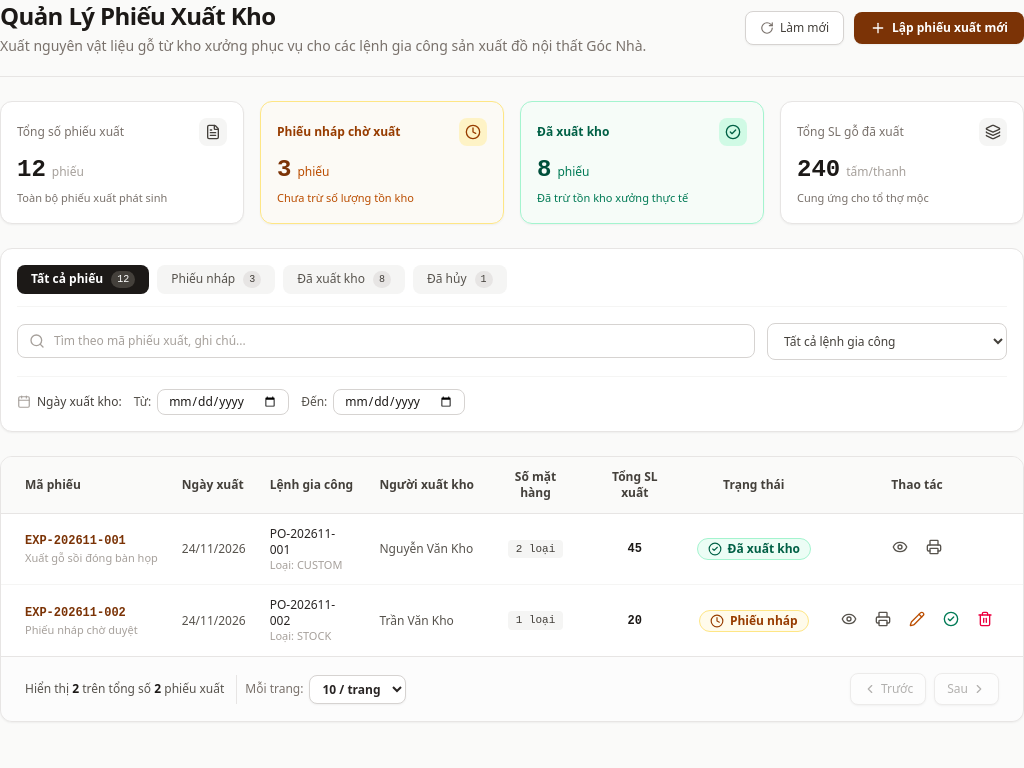
ManageMaterialExportPage Component › opens create modal when clicking "Lập phiếu xuất mới"
Step 1. Click the button "Lập phiếu xuất mới" → point(939, 28), box [854,12,1023,44]
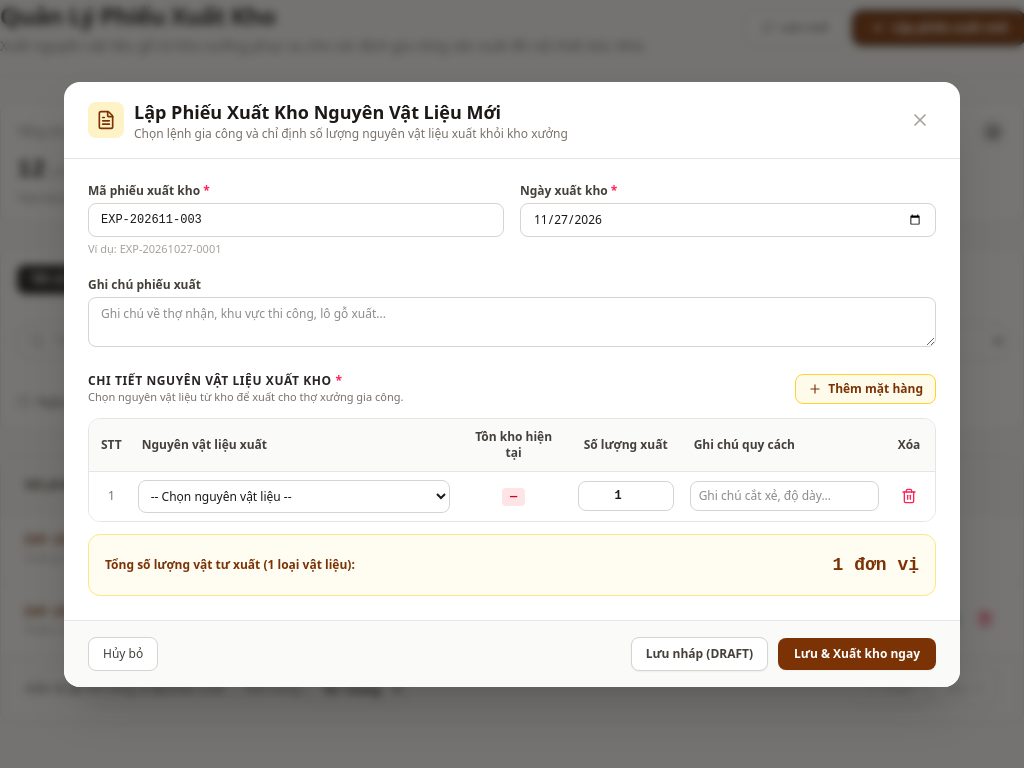
Check: the heading "Lập Phiếu Xuất Kho Nguyên Vật Liệu Mới" is shown, box [134,100,501,124]
Check: the heading "Chi tiết nguyên vật liệu xuất kho *" is shown, box [88,372,343,389]
